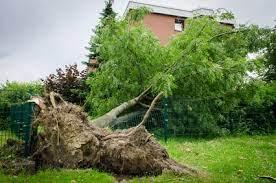Downstairs: (41, 7, 251, 174)
